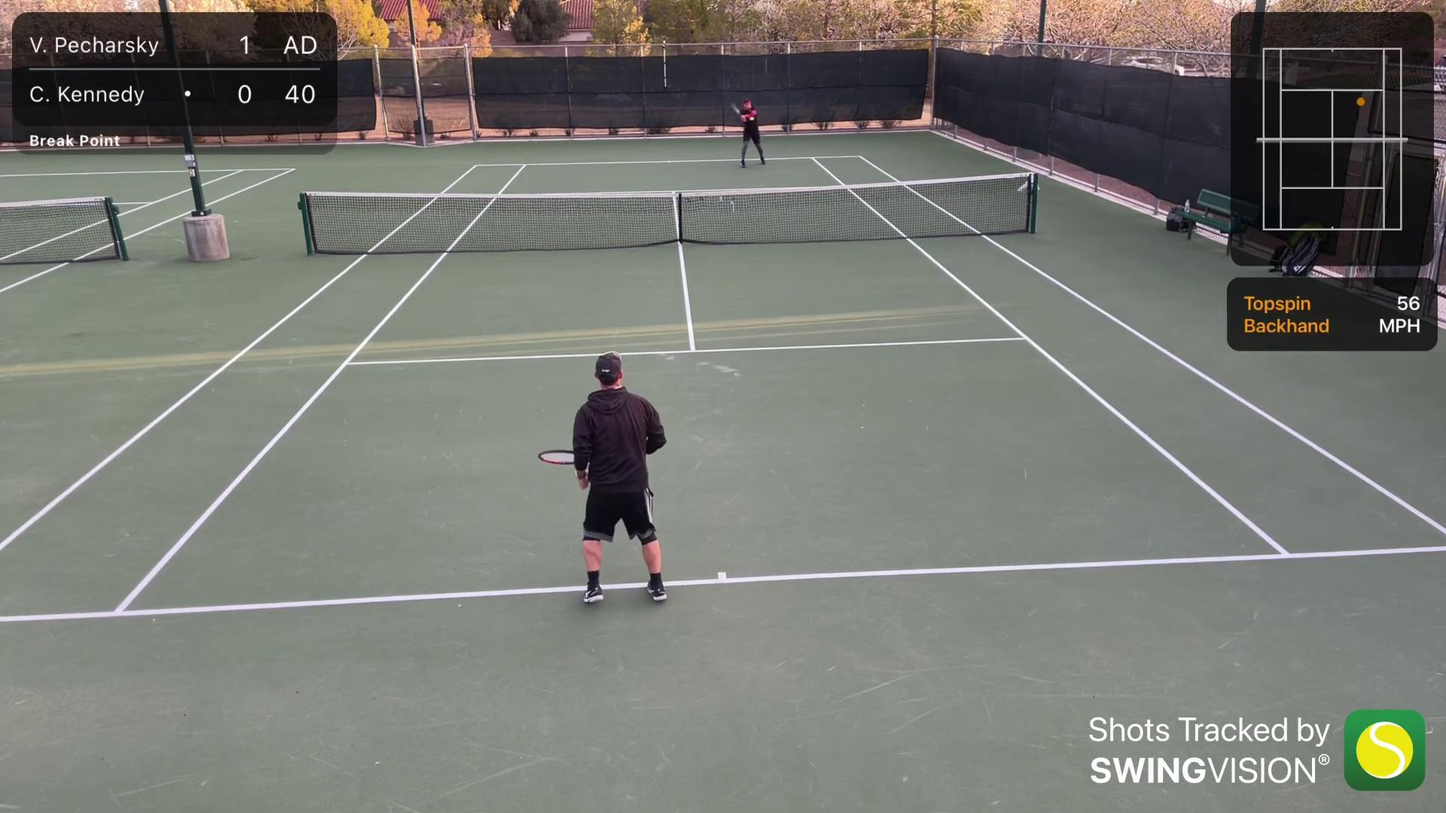ball: (749, 116, 755, 122)
